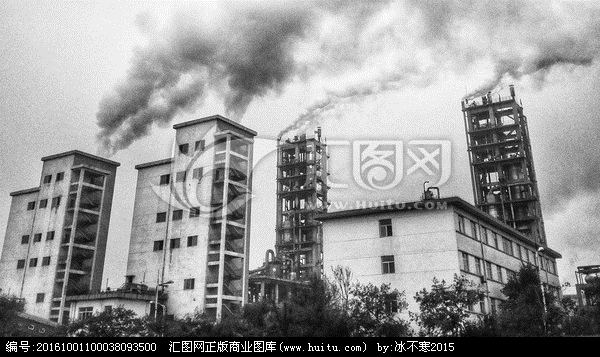dust: (71, 62, 189, 159), (444, 48, 577, 110), (273, 86, 377, 157), (208, 24, 267, 141)
